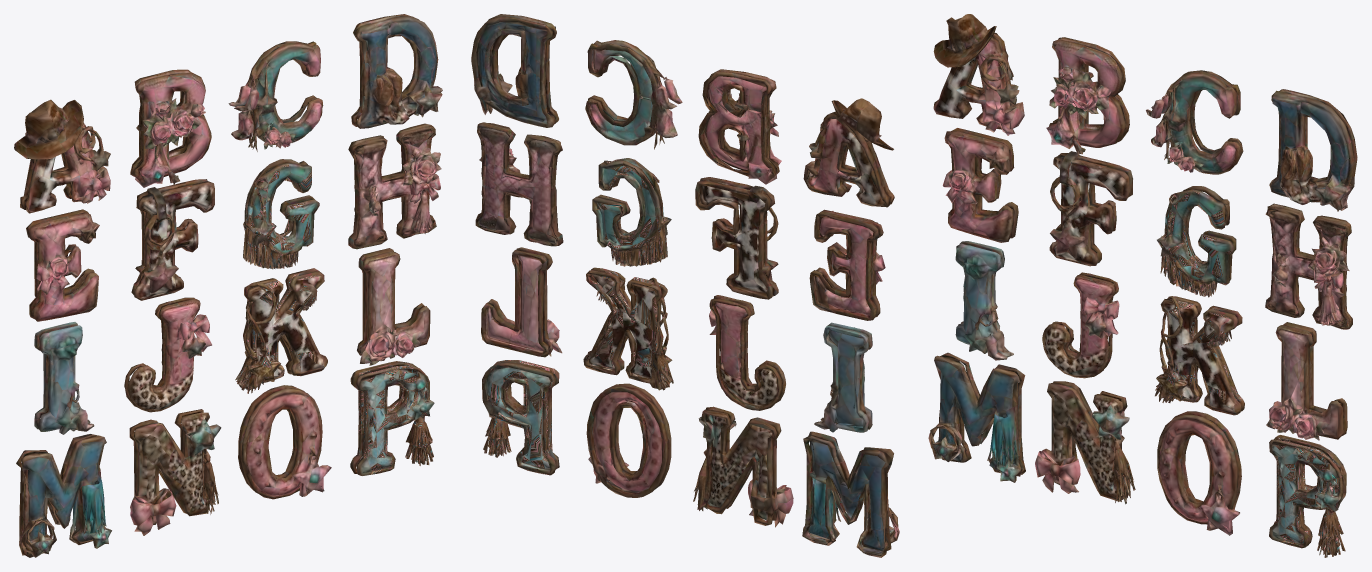
The picture shows the model from 3 angles, left to right: view 1: azimuth 30°, elevation 25°; view 2: azimuth 150°, elevation 25°; view 3: azimuth 330°, elevation 25°; orthographic projection.
Parts seen in each view (by area): view 1: Mesh 1, Mesh 5, Mesh 13, Mesh 2, Mesh 10, Mesh 15, Mesh 7, Mesh 11, Mesh 14, Mesh 3, Mesh 8, Mesh 12 (+4 smaller); view 2: Mesh 1, Mesh 5, Mesh 13, Mesh 10, Mesh 15, Mesh 7, Mesh 11, Mesh 14, Mesh 2, Mesh 8, Mesh 3, Mesh 9 (+4 smaller); view 3: Mesh 1, Mesh 5, Mesh 13, Mesh 10, Mesh 7, Mesh 15, Mesh 2, Mesh 11, Mesh 14, Mesh 3, Mesh 8, Mesh 9 (+4 smaller).
Part boxes in pixels (box(x1,y1,x2,y2)): Mesh 1: box(16, 434, 111, 557); Mesh 5: box(129, 409, 221, 535); Mesh 13: box(348, 123, 441, 249); Mesh 2: box(14, 99, 110, 213); Mesh 10: box(235, 268, 327, 393); Mesh 15: box(351, 14, 442, 128); Mesh 7: box(130, 69, 211, 187); Mesh 11: box(238, 385, 331, 499); Mesh 14: box(350, 361, 434, 475); Mesh 3: box(26, 209, 99, 321); Mesh 8: box(131, 179, 214, 300); Mesh 12: box(243, 159, 319, 269); Mesh 1: box(802, 431, 899, 557); Mesh 5: box(693, 406, 793, 527); Mesh 13: box(475, 122, 563, 246); Mesh 10: box(583, 267, 673, 390); Mesh 15: box(471, 14, 558, 127); Mesh 7: box(698, 69, 781, 184); Mesh 11: box(586, 383, 671, 497); Mesh 14: box(482, 360, 559, 475); Mesh 2: box(803, 98, 894, 207); Mesh 8: box(695, 177, 778, 299); Mesh 3: box(809, 209, 885, 320); Mesh 9: box(585, 40, 682, 149); Mesh 1: box(928, 352, 1025, 482); Mesh 5: box(1035, 381, 1135, 504); Mesh 13: box(1265, 203, 1352, 329); Mesh 10: box(1155, 296, 1244, 415); Mesh 7: box(1046, 37, 1129, 155); Mesh 15: box(1269, 89, 1357, 211); Mesh 2: box(933, 14, 1024, 135); Mesh 11: box(1157, 411, 1241, 535); Mesh 14: box(1269, 435, 1346, 557); Mesh 3: box(942, 128, 1018, 242); Mesh 8: box(1049, 151, 1132, 266); Mesh 9: box(1146, 70, 1243, 174).
Size of the model in its own units: 1.85 by 1.9 by 0.1445.
Materials: 16 (16 with a texture image).
